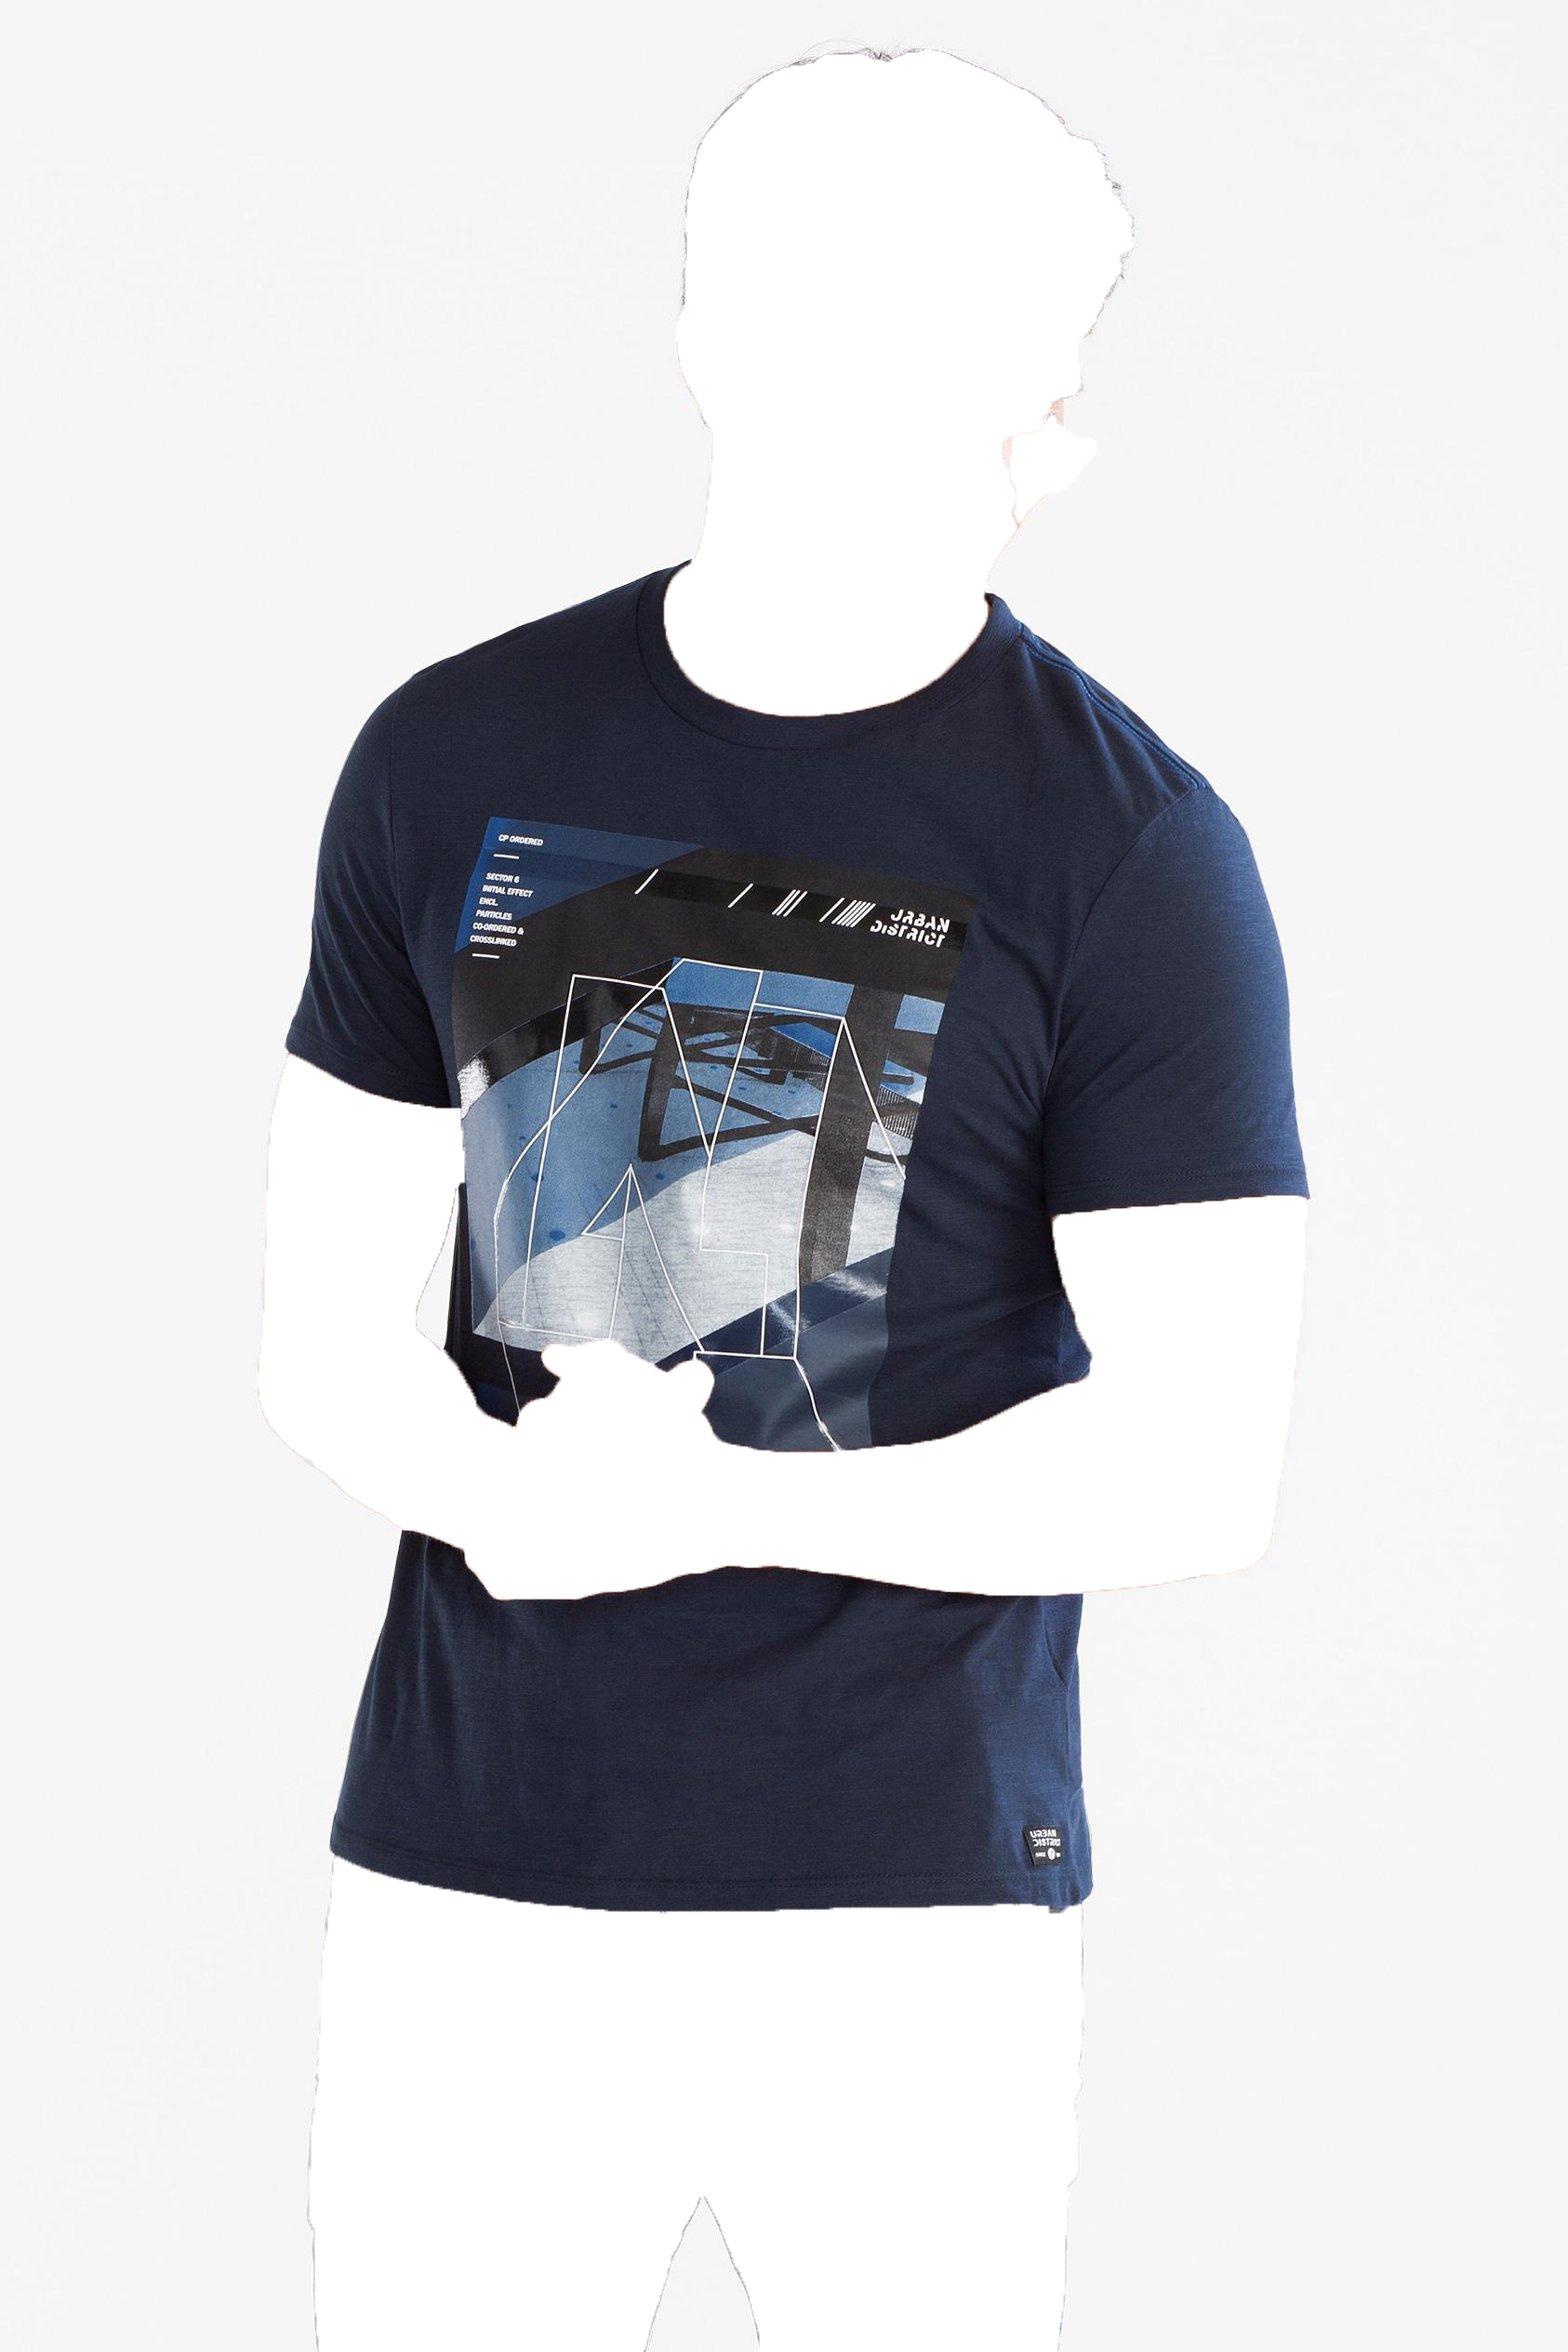teeshirt: (276, 549, 1319, 1957)
